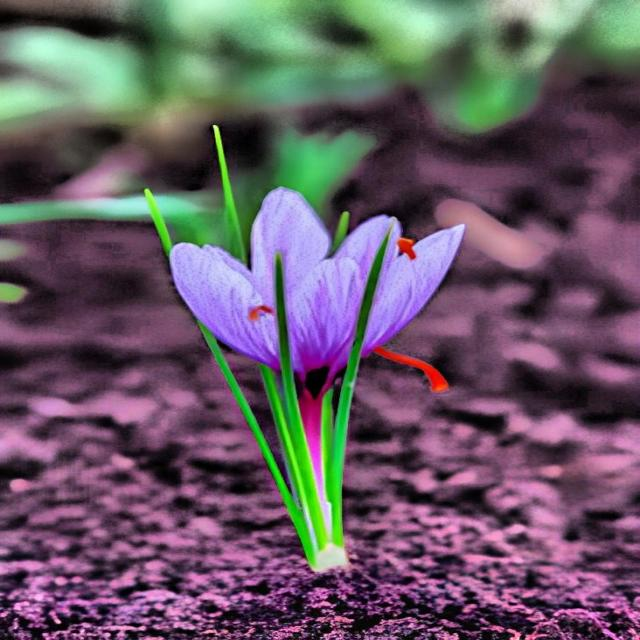Flower: (166, 186, 469, 372)
stigma: (371, 343, 450, 396), (399, 238, 424, 260)
